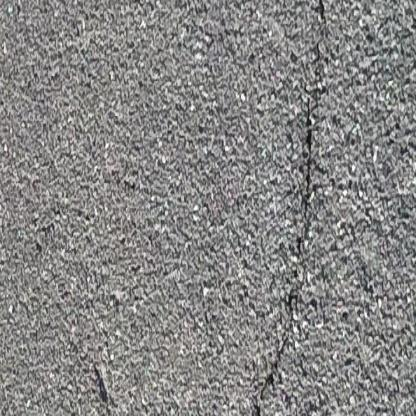Cracks: (236, 0, 350, 416)
